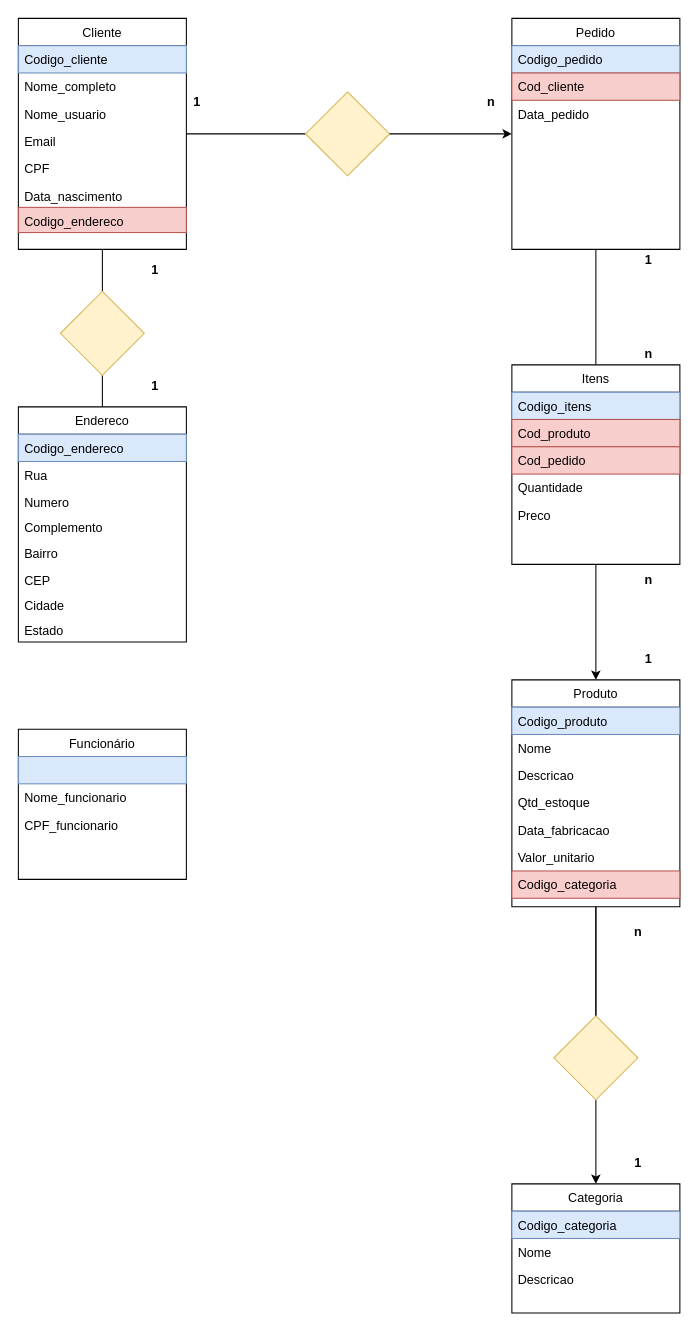
The diagram is 698 pixels wide and 1331 high, and some of its shapes have lost their labels. The centre of each missing label's shape, as x and y in pixels:
Codigo_funcionario: the point at 101,769
Efetua: the point at 347,133
Pertence: the point at 595,1057
Possui: the point at 101,332
